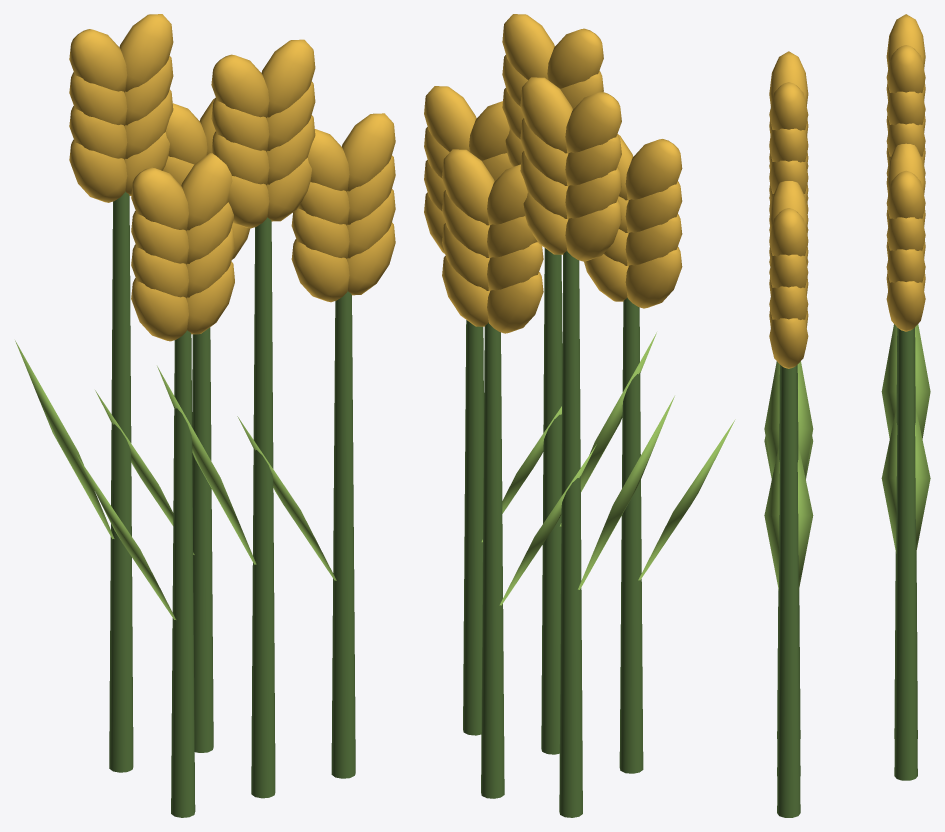
Rendered from crop_1_stage_3.fbx.
The picture shows the model from 3 angles, left to right: view 1: azimuth 30°, elevation 25°; view 2: azimuth 150°, elevation 25°; view 3: azimuth 270°, elevation 25°; orthographic projection. The views are drawn at different scales.
Parts seen in each view (by area): view 1: crop_1_stage_3; view 2: crop_1_stage_3; view 3: crop_1_stage_3.
Boxes of the visible parts, x1,y1,x2,y2 form: crop_1_stage_3: (15,14,395,817); crop_1_stage_3: (424,14,735,817); crop_1_stage_3: (764,14,930,817).
Size of the model in its own units: 0.357 by 0.8 by 0.1704.
1 material, 1 textured.
